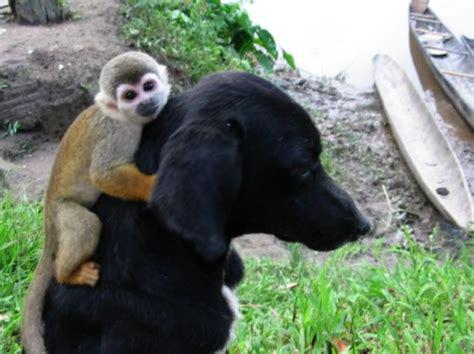dog: (43, 72, 369, 354)
monkey: (21, 52, 169, 354)
